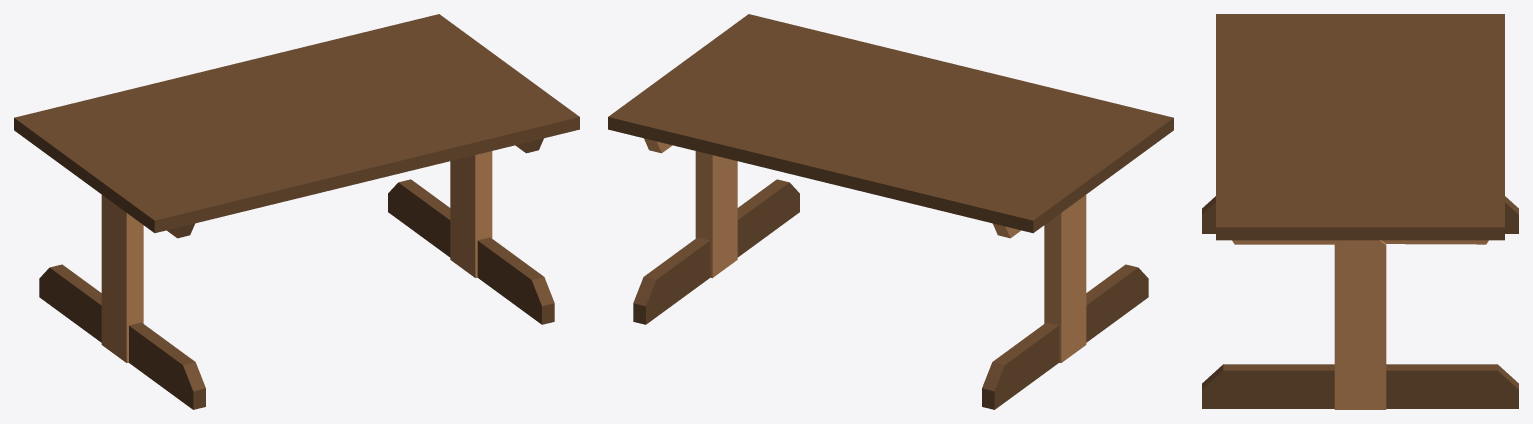
File: MP_Table.fbx
3 renders of one model, left to right at view 1: azimuth 30°, elevation 25°; view 2: azimuth 150°, elevation 25°; view 3: azimuth 270°, elevation 25°, orthographic. The views are drawn at different scales.
Visible parts, largest first — view 1: Table_Top.001, Table_T-Leg_2.001, Table_T-Leg_1.001; view 2: Table_Top.001, Table_T-Leg_2.001, Table_T-Leg_1.001; view 3: Table_Top.001, Table_T-Leg_1.001, Table_T-Leg_2.001.
Boxes of the visible parts, left/top/right/bottom form: Table_Top.001: left=14, top=14, right=579, bottom=232; Table_T-Leg_2.001: left=39, top=195, right=205, bottom=409; Table_T-Leg_1.001: left=388, top=138, right=554, bottom=324; Table_Top.001: left=608, top=14, right=1173, bottom=232; Table_T-Leg_2.001: left=982, top=195, right=1148, bottom=409; Table_T-Leg_1.001: left=633, top=138, right=799, bottom=324; Table_Top.001: left=1216, top=14, right=1504, bottom=240; Table_T-Leg_1.001: left=1202, top=240, right=1518, bottom=409; Table_T-Leg_2.001: left=1202, top=196, right=1518, bottom=233.
Size of the model in its own units: 136 by 58.9 by 85.61.
